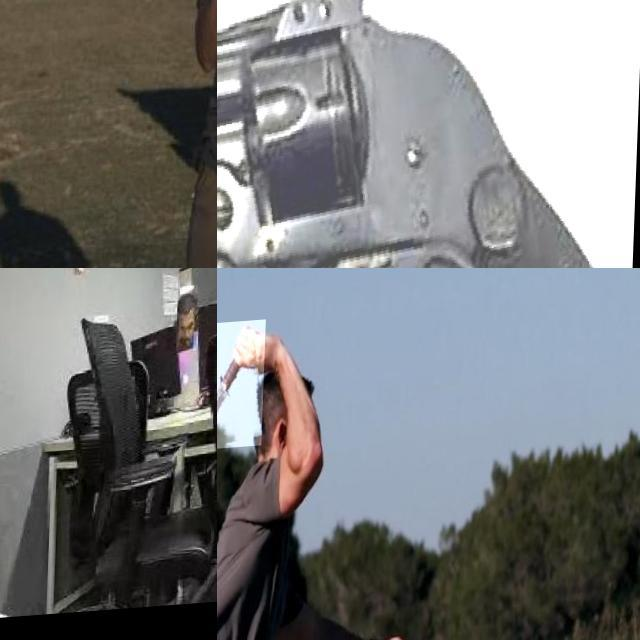-: (217, 322, 267, 453), (0, 426, 13, 498)
gun-knife-thesis - v11 Yolov5 augmented: (217, 0, 640, 268)
